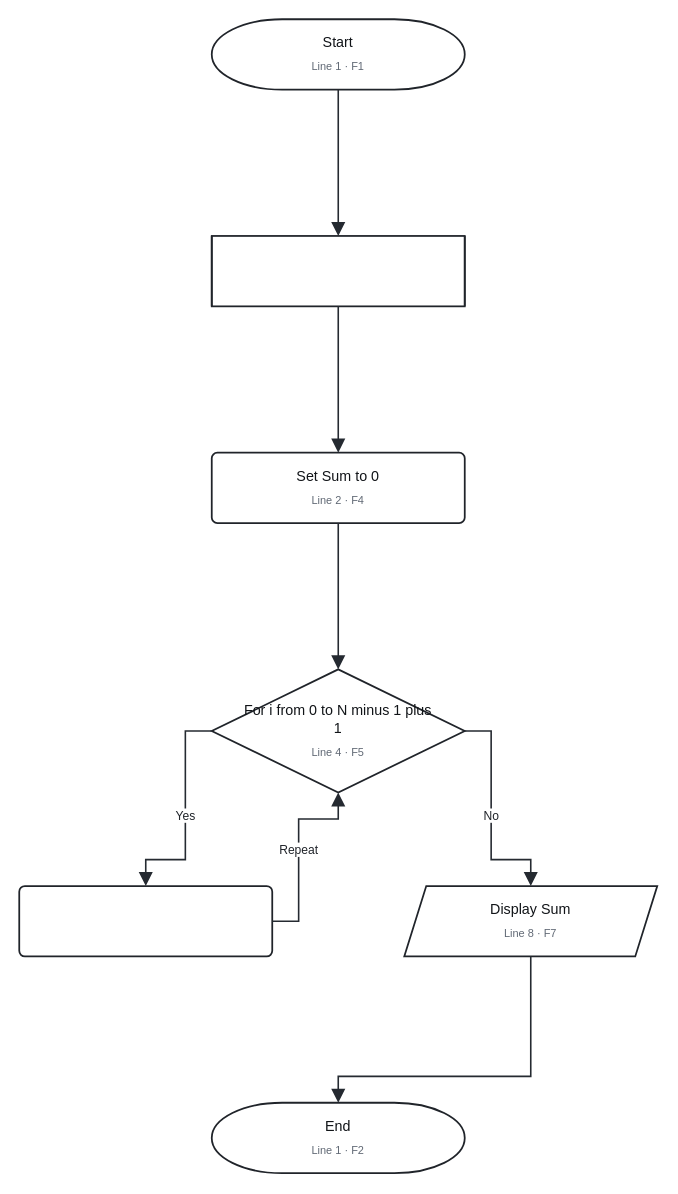
This 678x1194 diagram has some shape labels left out. The box of each missing label's shape, as (x1, y1, x2, y2) in pixels:
Run function unnamed_function with Matrix, N Line 1 · F3: (210, 235, 465, 307)
Set Sum to Sum plus item i of item i of Matrix Line 5 · F6: (18, 885, 273, 957)
